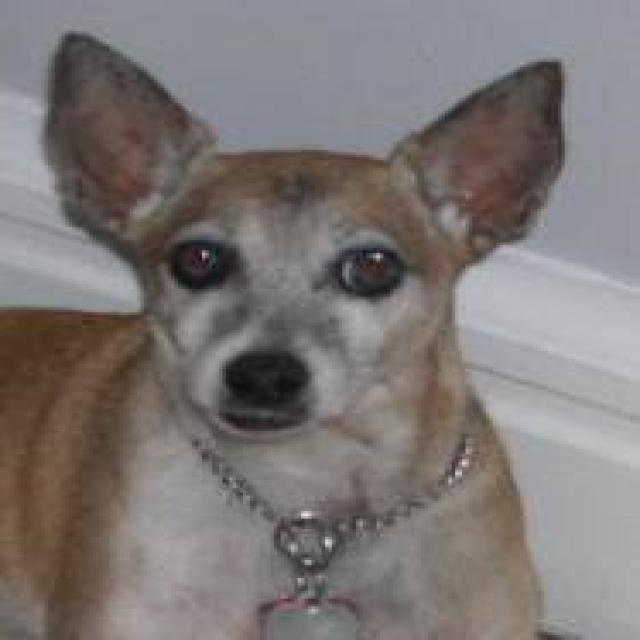dog: (0, 28, 592, 638)
